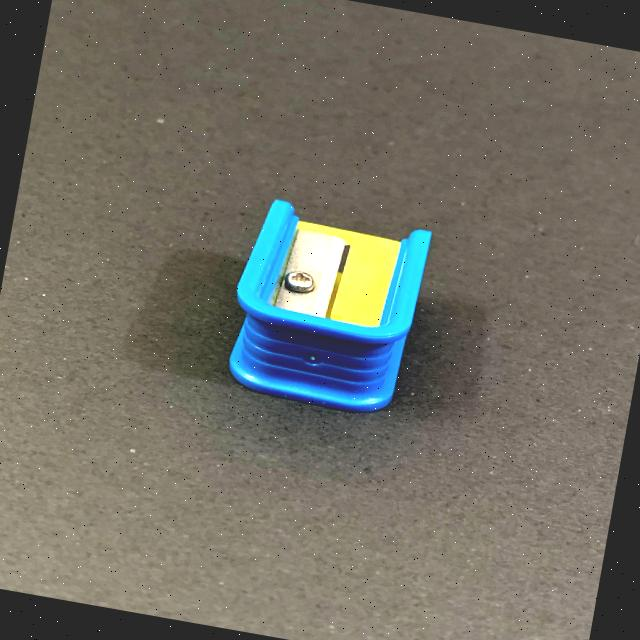Sharpner: (186, 168, 475, 438)
